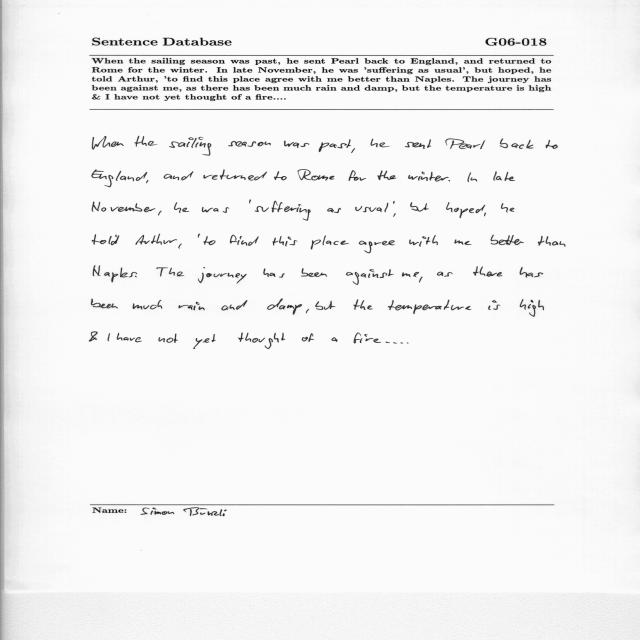word: (388, 300, 471, 314), (255, 201, 311, 221), (92, 170, 147, 188), (198, 267, 247, 284), (169, 137, 212, 156), (346, 269, 394, 285), (238, 333, 285, 349), (93, 266, 137, 283), (204, 170, 268, 181), (92, 202, 156, 212), (446, 202, 485, 218), (267, 299, 302, 315), (311, 236, 349, 250), (359, 240, 395, 253), (135, 234, 177, 245), (92, 136, 124, 150), (446, 139, 486, 150), (520, 299, 544, 317), (319, 139, 351, 152), (408, 172, 449, 182), (298, 170, 335, 181), (500, 138, 534, 149), (409, 235, 438, 247), (193, 334, 216, 349), (490, 235, 524, 245), (230, 235, 259, 246), (473, 266, 502, 277), (356, 203, 389, 212), (92, 235, 119, 246), (538, 236, 565, 247), (354, 333, 381, 344), (222, 300, 248, 311), (273, 236, 298, 247), (91, 299, 118, 309), (164, 172, 193, 181), (133, 300, 162, 309), (405, 139, 431, 149), (228, 141, 271, 147), (135, 136, 158, 147), (520, 267, 543, 278), (301, 268, 327, 277), (117, 333, 142, 342), (493, 171, 515, 181), (353, 299, 373, 310), (178, 302, 205, 310), (158, 333, 178, 343), (349, 170, 367, 181), (263, 269, 285, 278), (378, 171, 397, 181), (410, 202, 429, 212), (316, 301, 336, 310), (174, 202, 190, 213), (284, 141, 309, 148), (202, 207, 229, 213), (370, 139, 390, 147), (501, 203, 514, 213), (169, 268, 184, 276), (489, 300, 501, 310), (274, 171, 287, 180), (546, 140, 558, 149), (204, 236, 216, 245), (454, 239, 472, 245), (156, 268, 168, 277), (302, 333, 314, 342), (468, 173, 478, 183), (89, 332, 98, 342), (402, 272, 419, 277), (437, 272, 452, 277), (327, 208, 341, 213), (386, 342, 404, 344), (332, 337, 338, 342), (419, 277, 423, 283), (107, 333, 110, 341), (351, 148, 355, 153), (158, 211, 162, 216), (178, 244, 182, 249), (393, 213, 396, 217), (306, 309, 309, 313), (146, 180, 149, 183), (249, 200, 251, 204), (484, 213, 486, 217), (198, 234, 200, 238), (393, 201, 395, 204), (448, 180, 450, 181), (407, 343, 409, 344)
